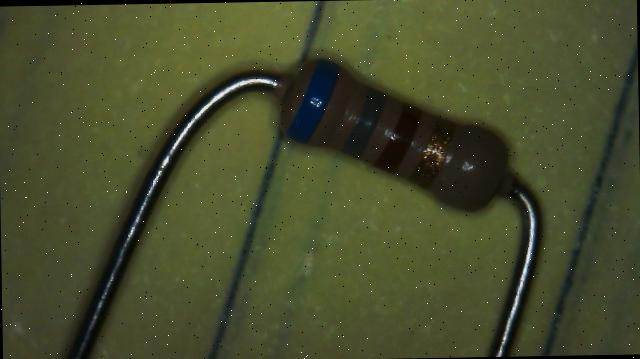blue: (286, 60, 342, 144)
brown: (374, 103, 424, 172)
gold: (413, 118, 456, 188)
grey: (340, 86, 387, 156)
resistor: (239, 24, 545, 252)
